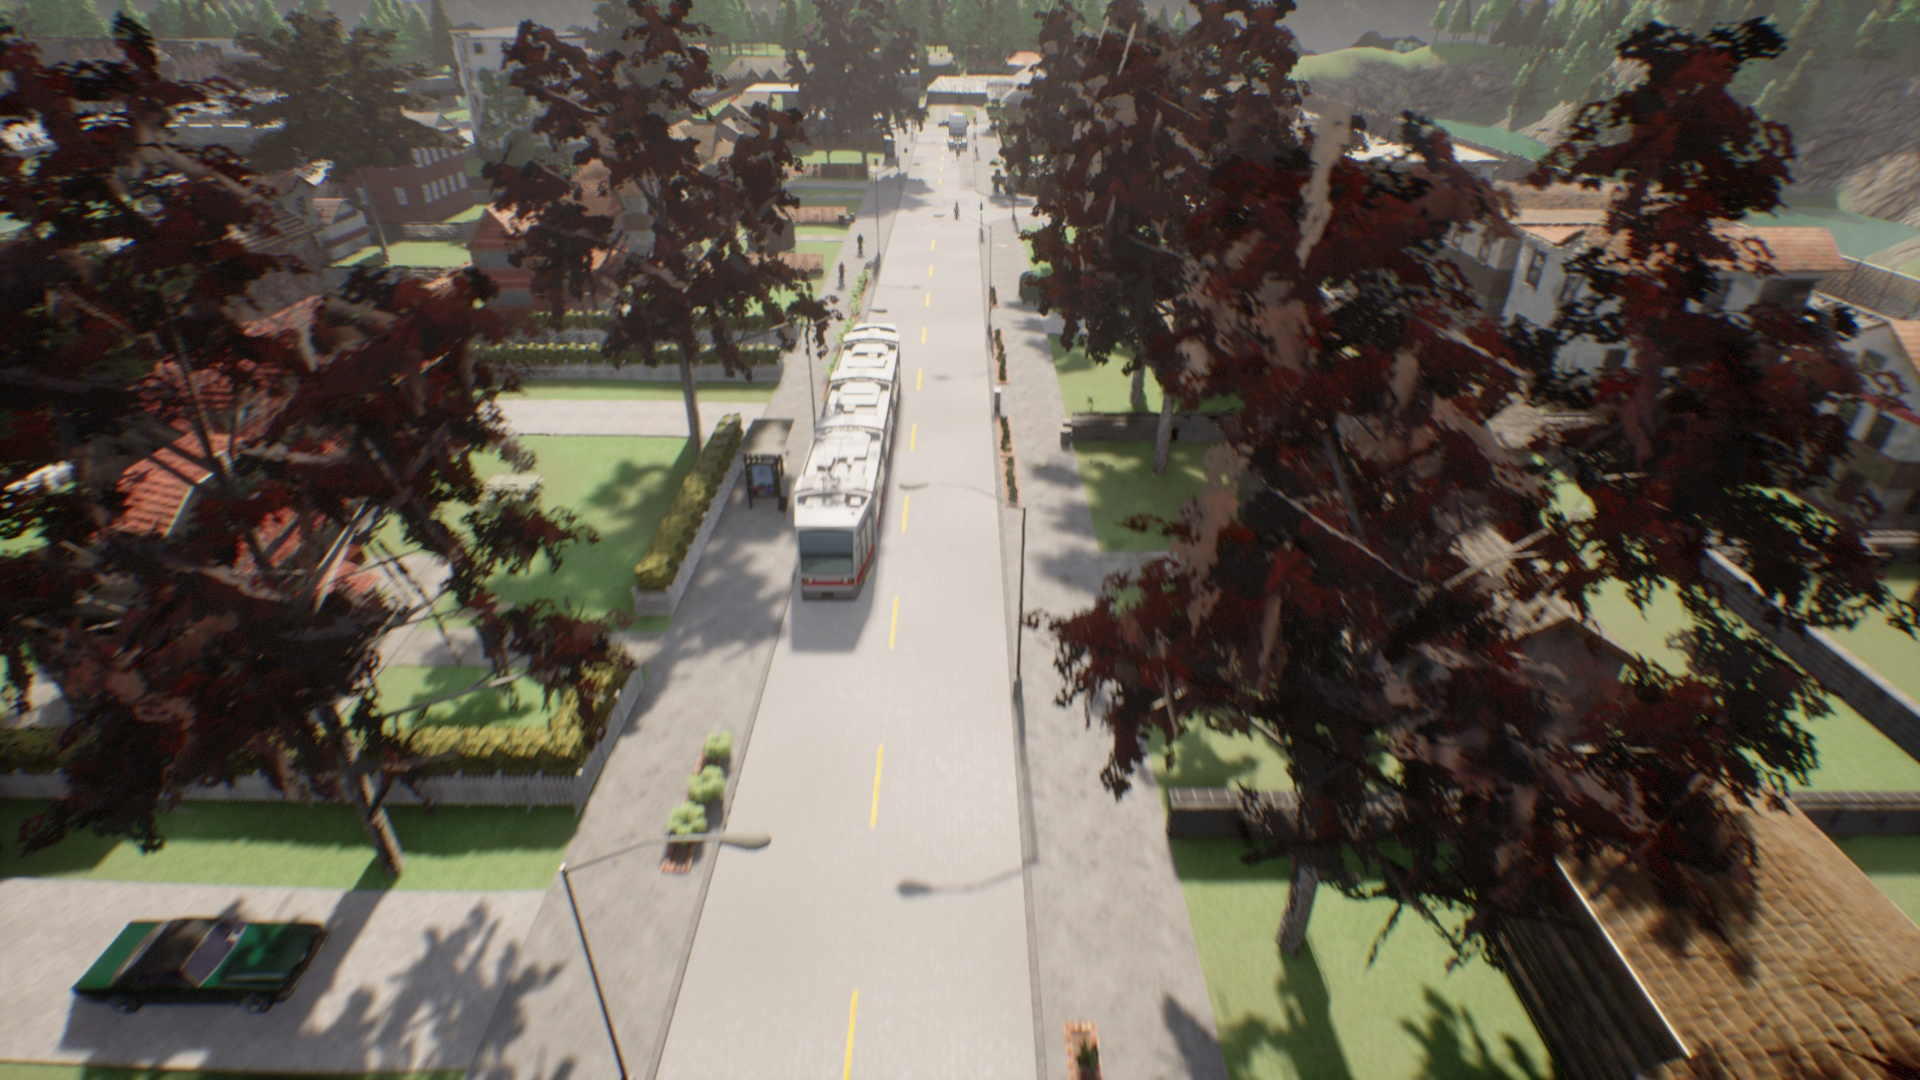Car: (71, 907, 324, 1019)
Motorcycle: (953, 142, 961, 165), (953, 202, 961, 220)
Truck: (796, 324, 910, 599), (949, 113, 972, 156)
